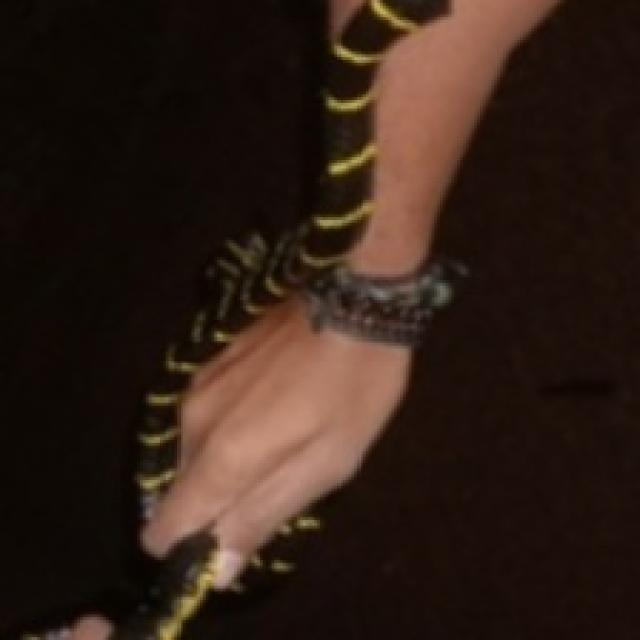mangrove cat snake: (135, 0, 447, 521), (120, 535, 216, 640), (234, 514, 321, 592)
